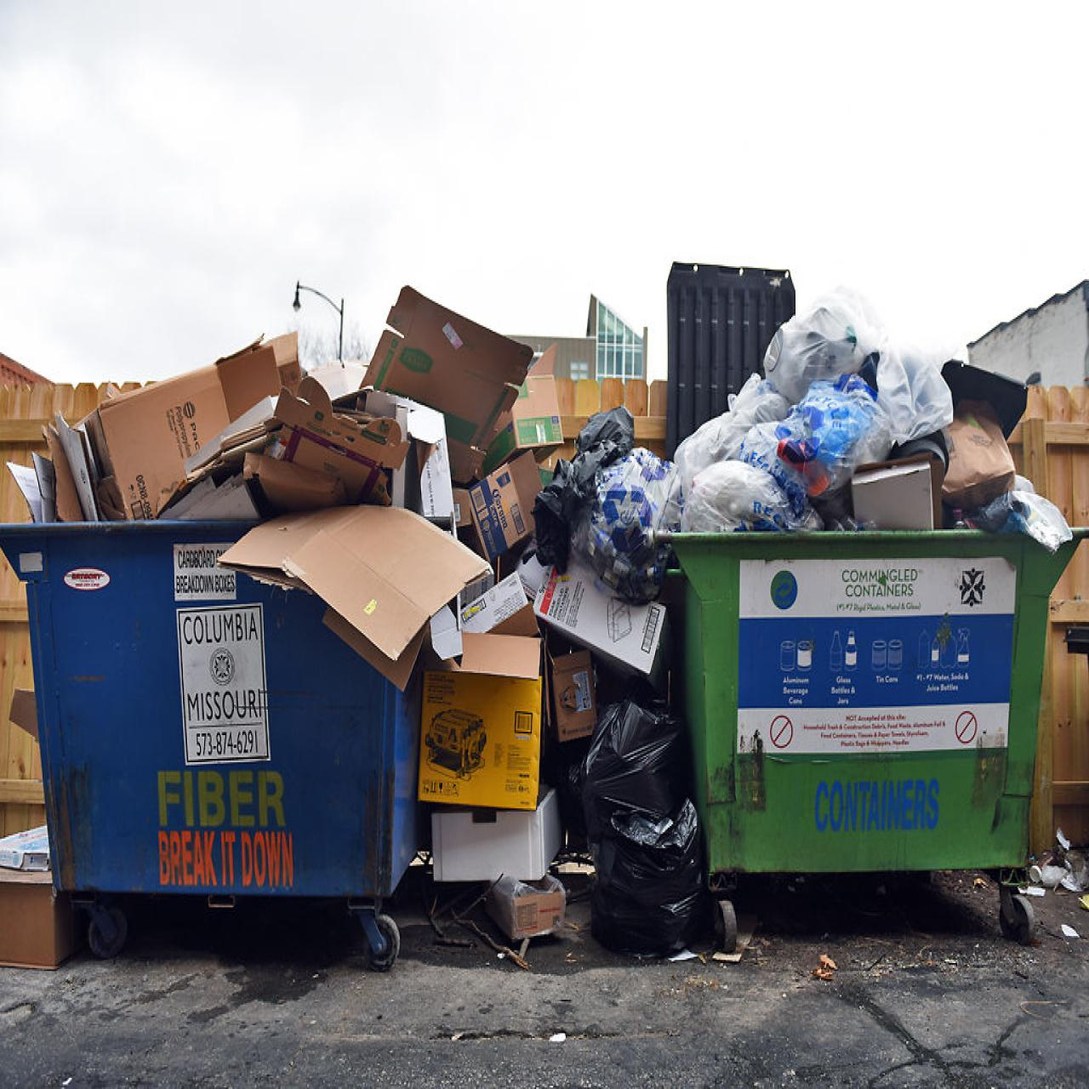bin_full: (0, 338, 487, 966), (670, 292, 1076, 875)
bulk_waste: (223, 505, 485, 681), (364, 286, 532, 480), (419, 633, 541, 807), (535, 564, 665, 676), (431, 789, 560, 881)
normal_waste: (591, 799, 706, 953), (533, 408, 632, 570), (580, 699, 681, 846)
